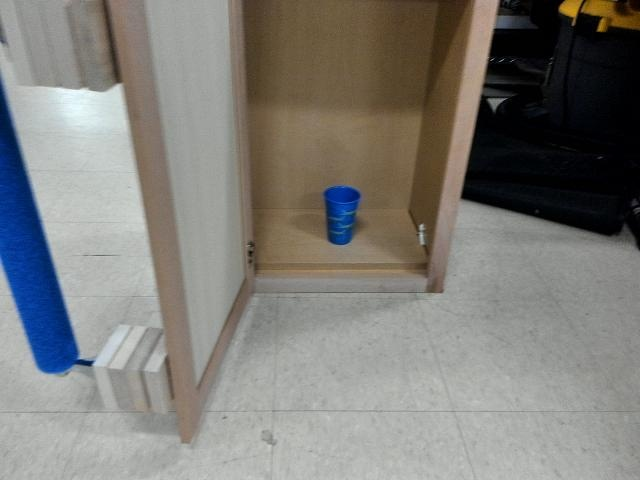noodle_handle: (2, 85, 78, 374)
water_cup: (318, 178, 365, 250)
